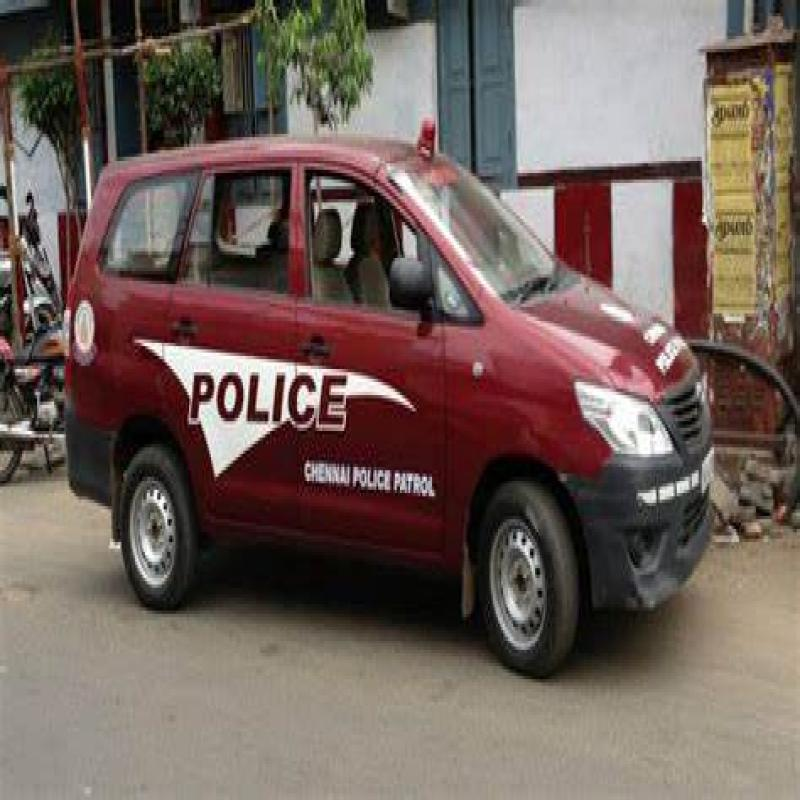AmbulanceSiren: (417, 96, 441, 168)
